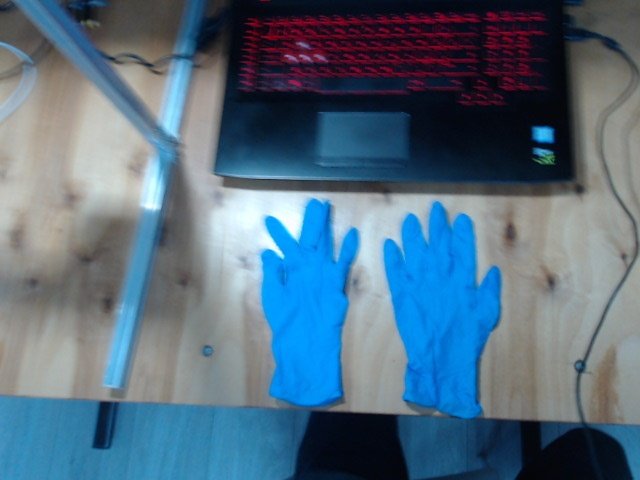medical_glove: (384, 200, 500, 418), (261, 198, 359, 406)
